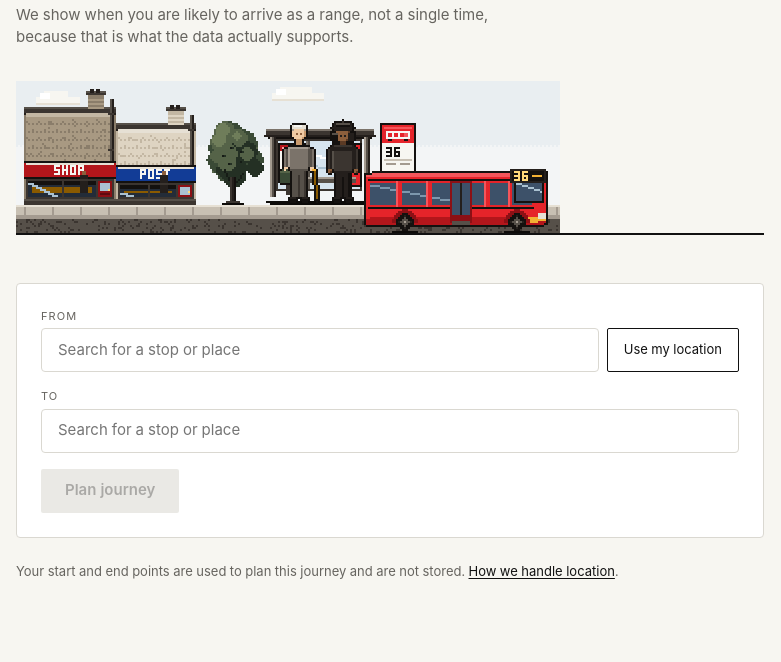
Test case: JourneyPage › says the journey could not be planned instead of showing an empty list
Type "some" into the search field labelled "From".
click(320, 350); type("some")  # box [41,328,599,372]
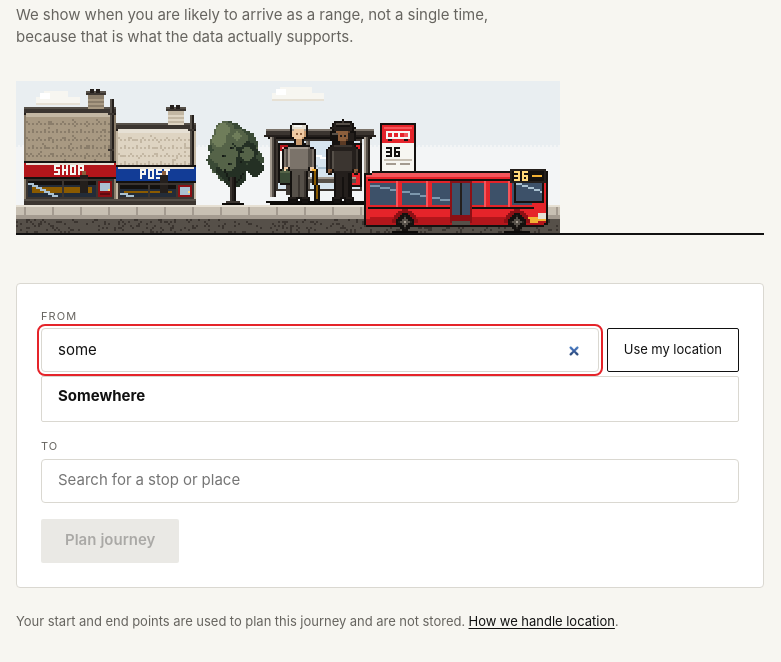
Click the button "Somewhere".
click(102, 396)  # box [42,377,738,421]
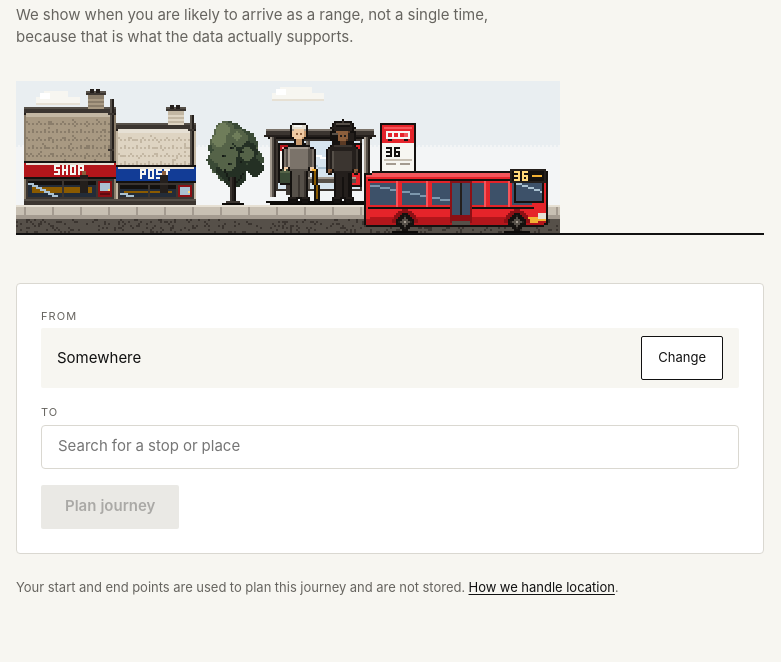
Type "some" into the search field labelled "To".
click(390, 447); type("some")  # box [41,425,739,469]
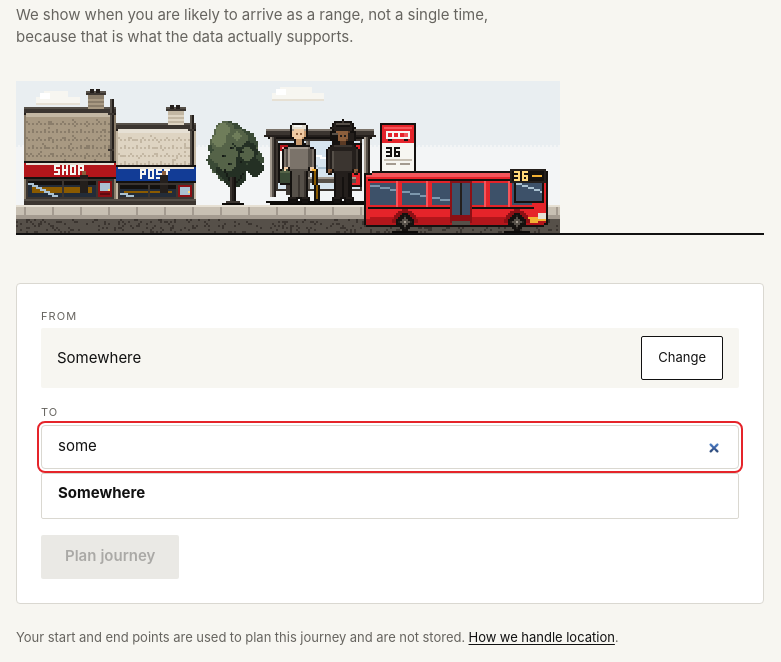
Click the button "Somewhere".
click(102, 492)  # box [42,474,738,518]
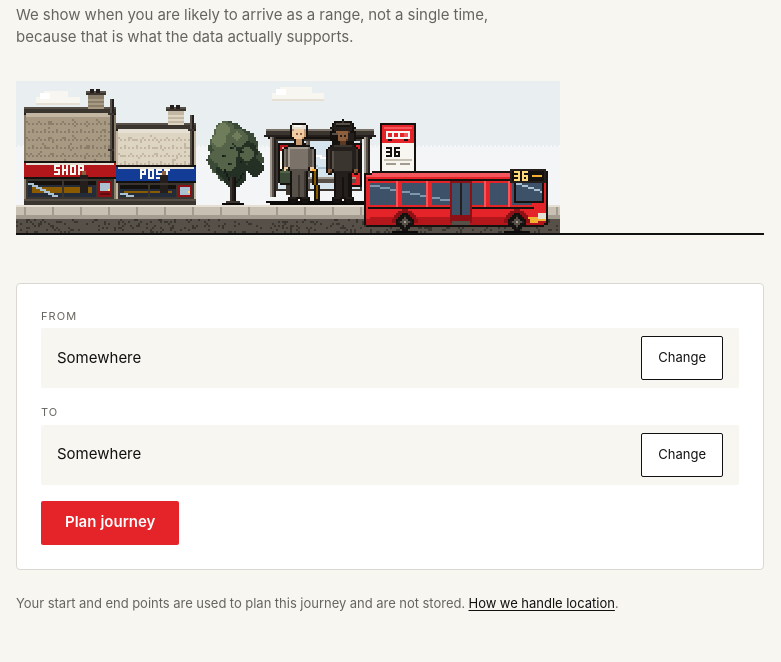
Click the button "Plan journey".
click(110, 523)  # box [41,501,179,545]
(page scrolled)
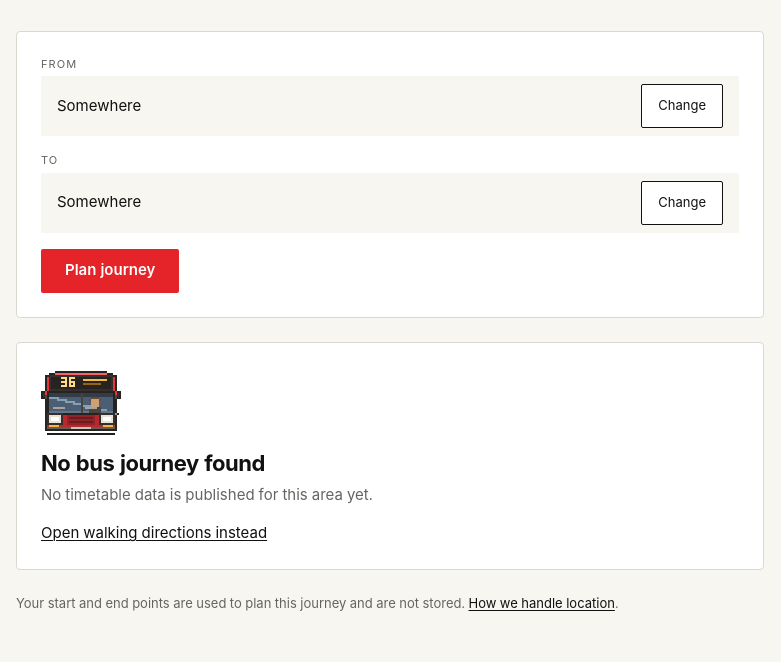
Now the text "No timetable data is published for this area yet." is shown, box [41,485,373,504]
